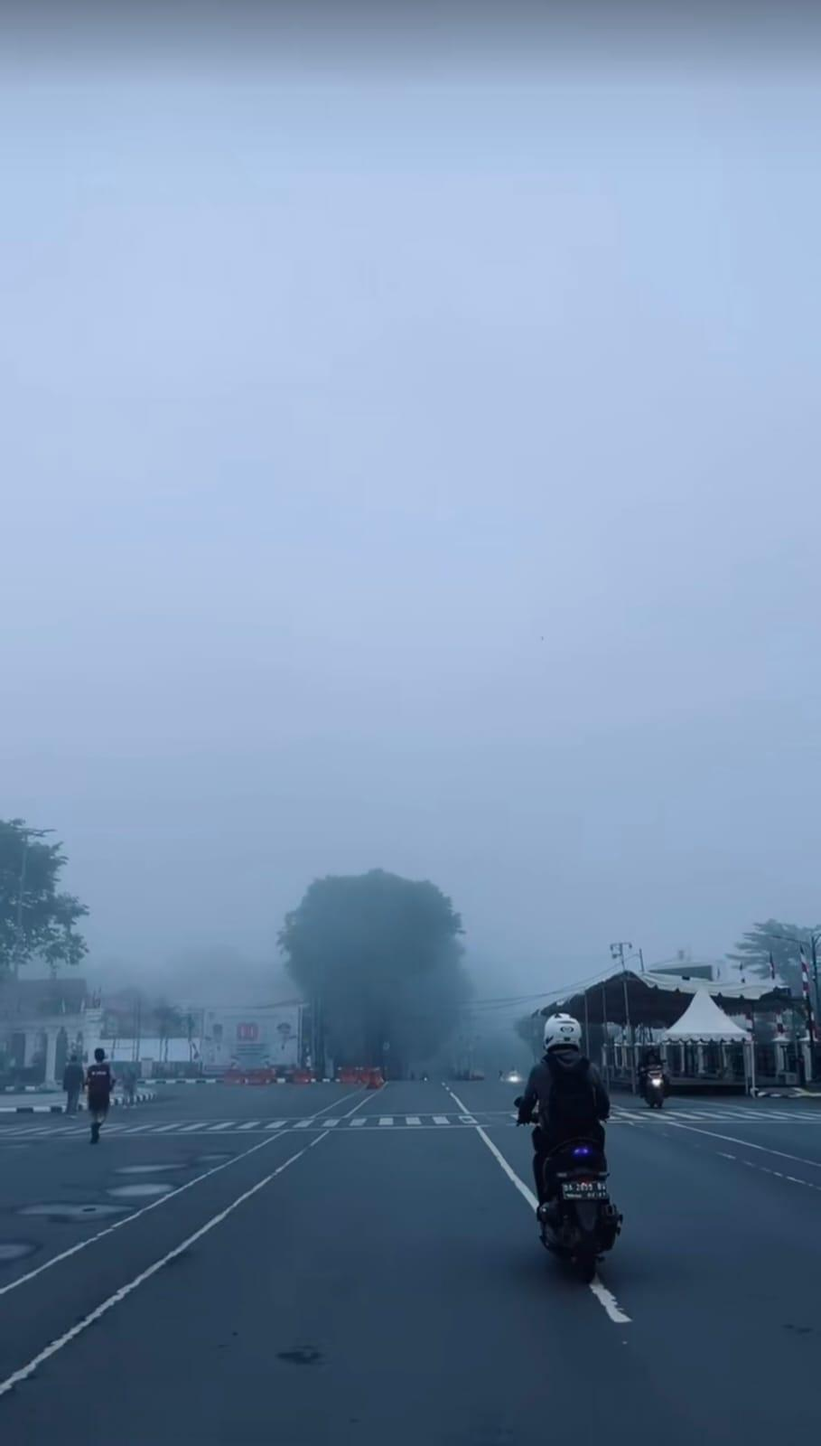Deteksi-Objek-Citra-Berasap: (0, 605, 821, 1085)
Gedung: (527, 956, 820, 1097), (0, 977, 201, 1088), (200, 997, 307, 1080)
Kendaraan: (530, 1130, 627, 1287), (639, 1066, 672, 1110)
Manusia: (515, 1011, 612, 1224), (85, 1047, 116, 1145), (62, 1052, 85, 1116), (640, 1044, 666, 1089)
Vegetasi: (277, 868, 472, 1079), (0, 819, 90, 988), (724, 916, 821, 990)
